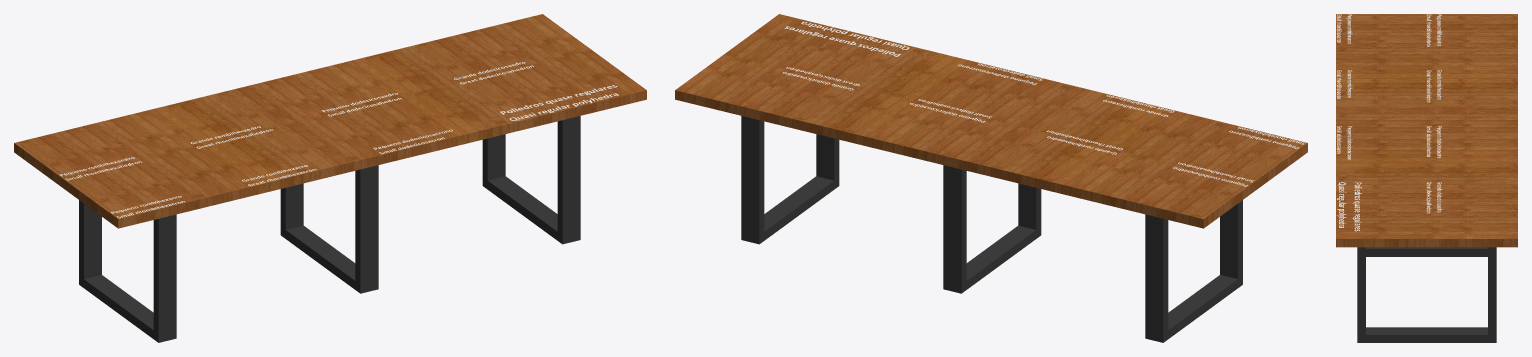
The model's file is quasiregular1.glb.
The picture shows the model from 3 angles, left to right: view 1: azimuth 30°, elevation 25°; view 2: azimuth 150°, elevation 25°; view 3: azimuth 270°, elevation 25°; orthographic projection. The views are drawn at different scales.
Parts seen in each view (by area): view 1: object 1, Composant#1 (×3), Poliedros quase; view 2: object 1, Composant#1 (×3), Poliedros quase; view 3: object 1, Composant#1 (×2), Poliedros quase, Pequeno rombihex, Grande dodecicos, Grande rombihexa, Pequeno dodecico#1, Pequeno dodecico#2, Pequeno rombihex#1, Grande rombihexa#1.
Boxes of the visible parts, <box> form: object 1: <box>14,14,646,228</box>; Composant#1 (×3): <box>79,116,580,342</box>; Poliedros quase: <box>500,85,618,120</box>; object 1: <box>675,14,1307,228</box>; Composant#1 (×3): <box>741,116,1242,342</box>; Poliedros quase: <box>784,21,909,56</box>; object 1: <box>1336,14,1517,247</box>; Composant#1 (×2): <box>1357,247,1496,342</box>; Poliedros quase: <box>1337,182,1361,231</box>; Pequeno rombihex: <box>1426,14,1441,46</box>; Grande dodecicos: <box>1426,182,1442,213</box>; Grande rombihexa: <box>1426,70,1441,102</box>; Pequeno dodecico#1: <box>1426,126,1441,158</box>; Pequeno dodecico#2: <box>1337,126,1352,159</box>; Pequeno rombihex#1: <box>1337,14,1352,43</box>; Grande rombihexa#1: <box>1337,70,1352,98</box>.
Bounding box in the file's own units: 2.93 × 0.7711 × 1.
3 materials, 1 textured.
